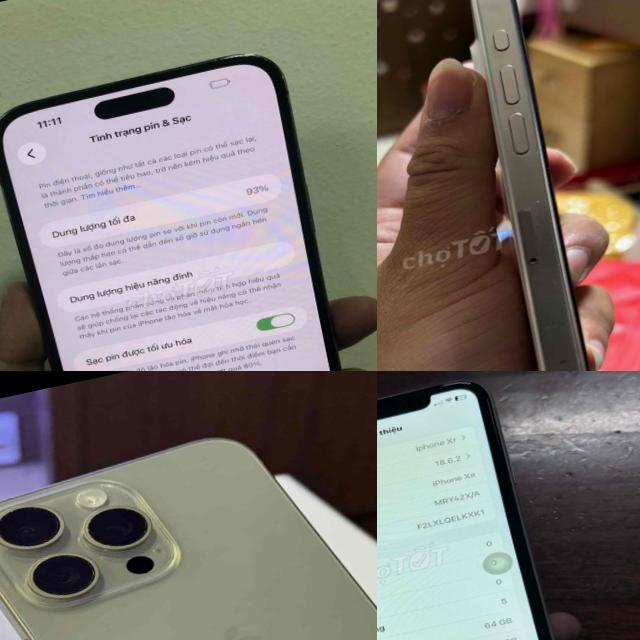gen_14: (0, 35, 377, 371)
gen_15: (0, 385, 377, 640), (408, 0, 640, 371)
gen_x_xs: (377, 371, 586, 640)
